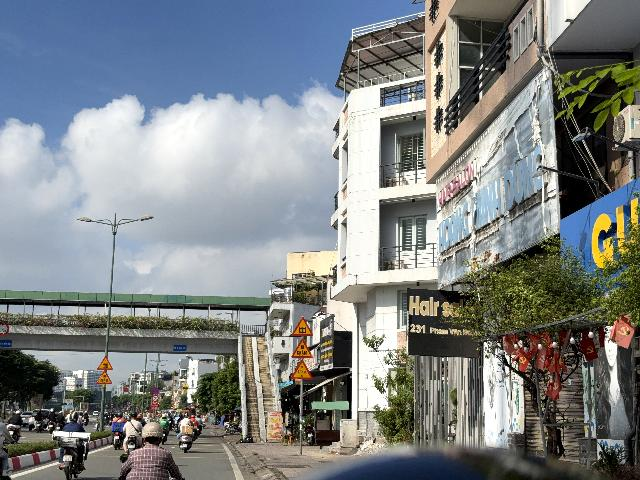chieu-cao-tinh-khong-thuc-te: (290, 359, 313, 380)
di-cham: (292, 338, 314, 358), (96, 370, 113, 384)
noi-giao-nhau-voi-duong-sat-co-rao-chan: (292, 316, 313, 336), (97, 356, 113, 370)
